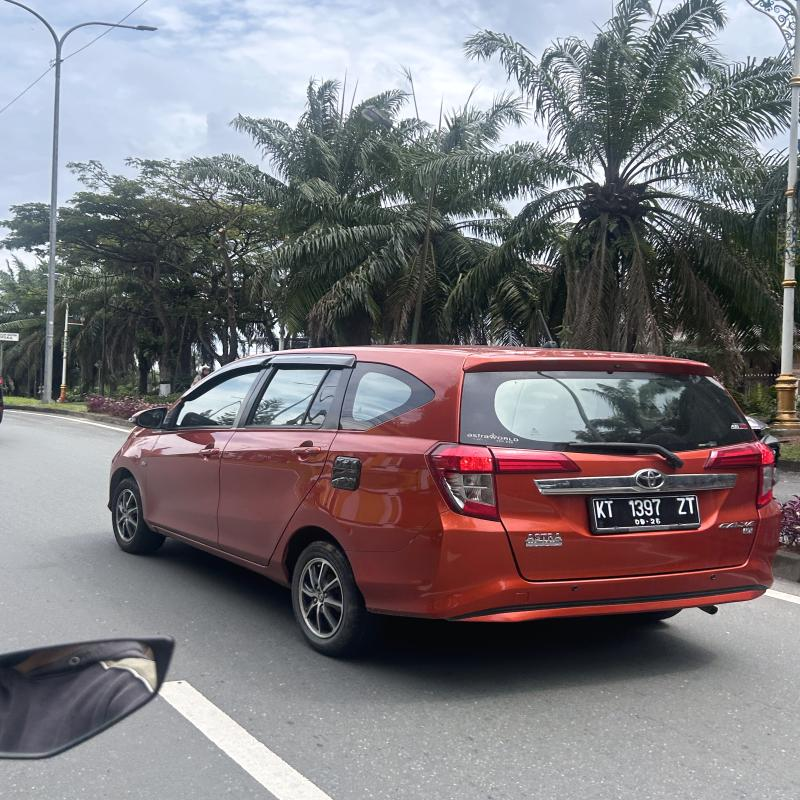license plate on a car: (591, 496, 700, 533)
